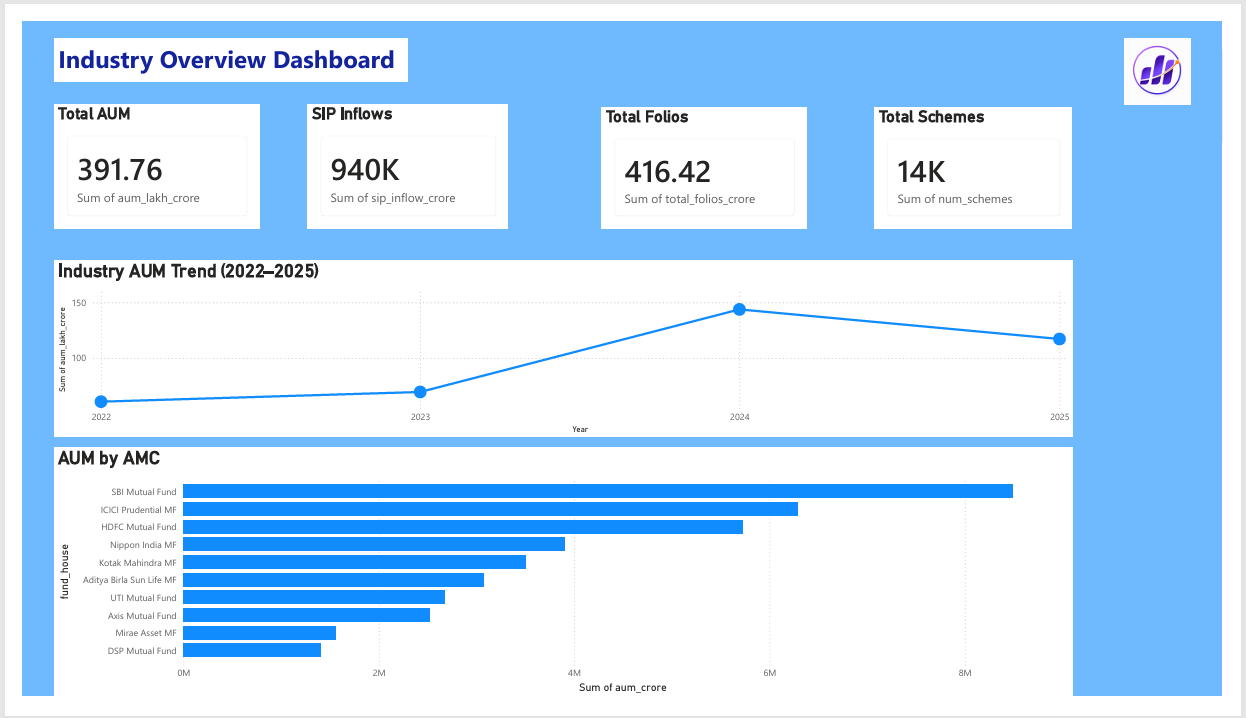

Layout of this report page (visuals, bound fields, positions):
{"tool":"powerbi","page":{"name":"Industry Overview Dashboard","canvas":[1600,900],"ordinal":0},"visuals":[{"type":"cardVisual","title":"Total AUM","fields":{"Data":["Sum(03_aum_by_fund_house.aum_lakh_crore)"]},"box":[42,110,274,166],"z":0},{"type":"cardVisual","title":"SIP Inflows","fields":{"Data":["Sum(04_monthly_sip_inflows.sip_inflow_crore)"]},"box":[380,110,268,166],"z":1000},{"type":"cardVisual","title":"Total Schemes","fields":{"Data":["Sum(03_aum_by_fund_house.num_schemes)"]},"box":[1136,114,264,162],"z":2000},{"type":"cardVisual","title":"Total Folios","fields":{"Data":["Sum(06_industry_folio_count.total_folios_crore)"]},"box":[772,114,274,162],"z":3000},{"type":"lineChart","title":"Industry AUM Trend (2022–2025)","fields":{"Category":["03_aum_by_fund_house.date.Variation.Date Hierarchy.Year","03_aum_by_fund_house.date.Variation.Date Hierarchy.Quarter","03_aum_by_fund_house.date.Variation.Date Hierarchy.Month","03_aum_by_fund_house.date.Variation.Date Hierarchy.Day"],"Y":["Sum(03_aum_by_fund_house.aum_lakh_crore)"]},"box":[42,318,1358,236],"z":4000},{"type":"clusteredBarChart","title":"AUM by AMC","fields":{"Category":["03_aum_by_fund_house.fund_house"],"Y":["Sum(03_aum_by_fund_house.aum_crore)"]},"box":[42,568,1358,332],"z":5000},{"type":"image","box":[1458,22,110,88],"z":6000},{"type":"textbox","box":[42,22,472,58],"z":7000}]}

Visuals, with their boxes in screenshot pixels (x1, y1, x2, y2), scaled from the page's 1600x900 canvas onto the 1246x718 screenshot:
"Total AUM" cardVisual: select_region(33, 88, 246, 220)
"SIP Inflows" cardVisual: select_region(296, 88, 505, 220)
"Total Schemes" cardVisual: select_region(885, 91, 1090, 220)
"Total Folios" cardVisual: select_region(601, 91, 815, 220)
"Industry AUM Trend (2022–2025)" lineChart: select_region(33, 254, 1090, 442)
"AUM by AMC" clusteredBarChart: select_region(33, 453, 1090, 717)
image: select_region(1135, 18, 1221, 88)
textbox: select_region(33, 18, 400, 64)
